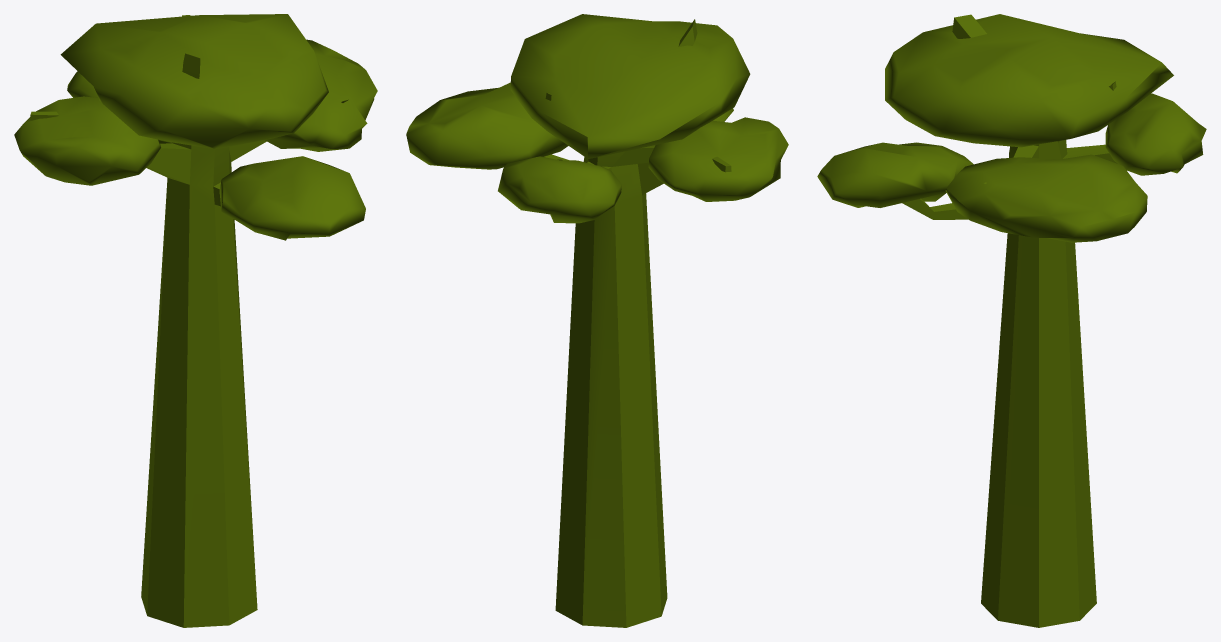
Rendered from treeca.fbx.
The picture shows the model from 3 angles, left to right: view 1: azimuth 30°, elevation 25°; view 2: azimuth 150°, elevation 25°; view 3: azimuth 270°, elevation 25°; orthographic projection. The views are drawn at different scales.
Parts seen in each view (by area): view 1: cantree; view 2: cantree; view 3: cantree.
Boxes of the visible parts, x1,y1,x2,y2 form: cantree: (14,14,377,627); cantree: (406,14,788,627); cantree: (817,14,1206,627).
Bounding box in the file's own units: 12.86 × 20.34 × 12.69.
